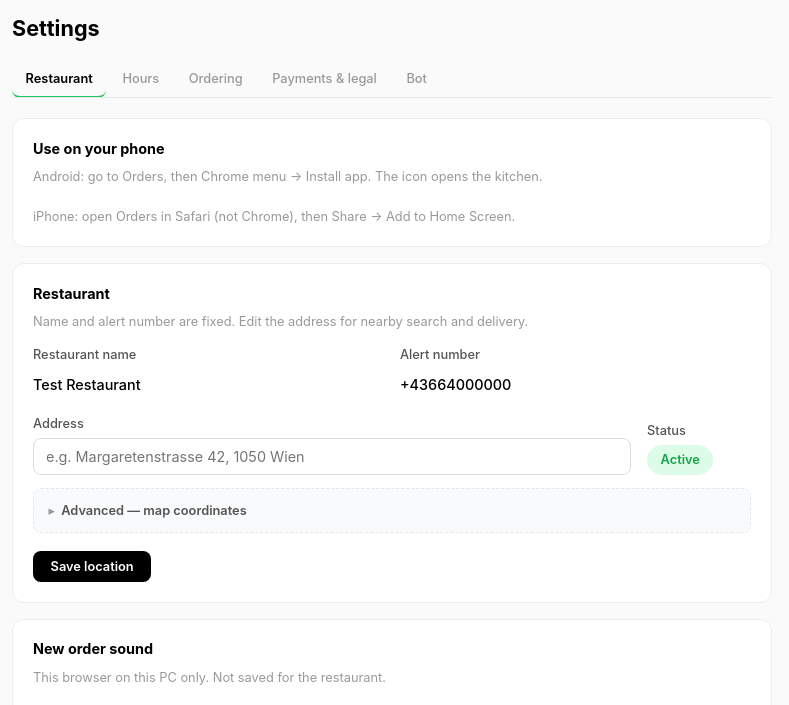
Test case: SettingsPage — tabs and Advanced › shows lat/lng after expanding Restaurant Advanced
Expected: the field labelled "Address" is shown, left=33, top=438, right=631, bottom=475
What coordinates should you click on to do the following:
click the heading "Advanced — map coordinates"
I would click on:
 (154, 511)
Its box is left=61, top=503, right=247, bottom=518.
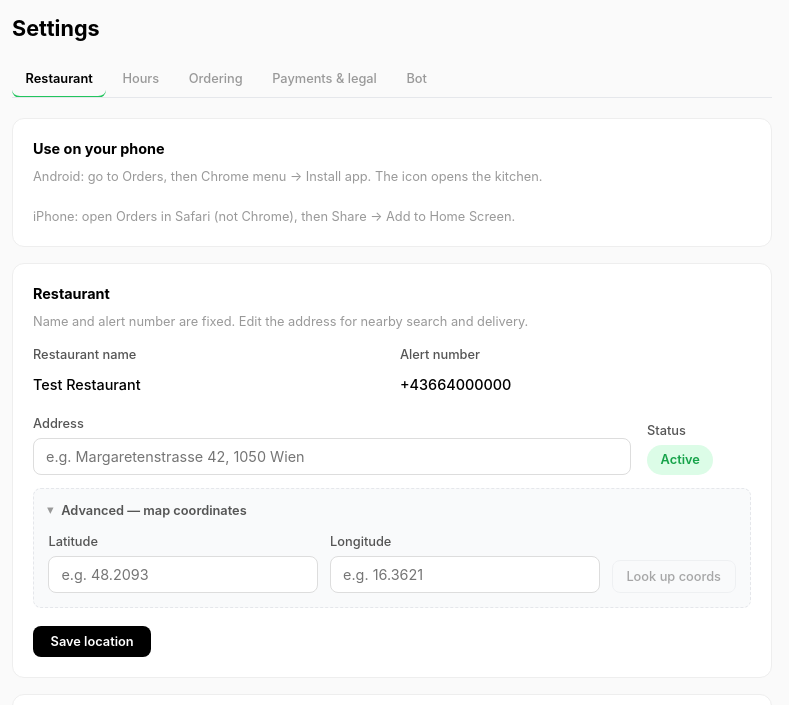
Expected: the number field labelled "Latitude" is shown, left=48, top=556, right=318, bottom=593
Expected: the number field labelled "Longitude" is shown, left=330, top=556, right=600, bottom=593
